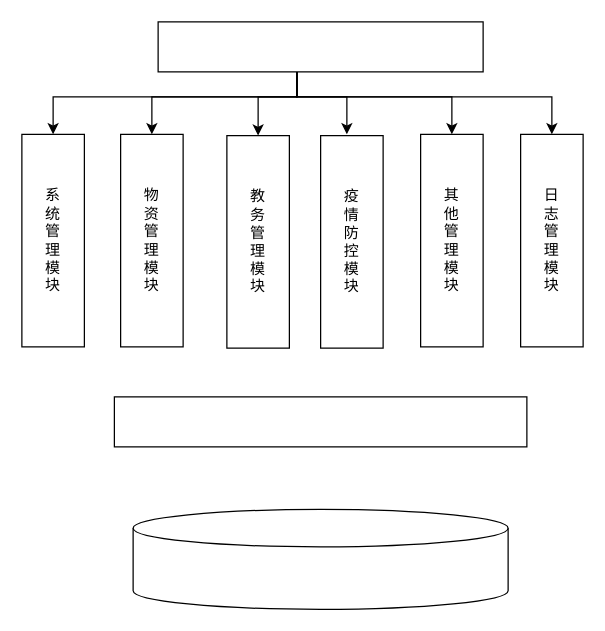
Image size: 605x631. Some labels were removed from this diagram. Each missing label, with the centre of its shape:
IDEA+Tomcat+Node.js: the point at 320,421
MySQL: the point at 320,558
基于JavaEE的校园防疫系统: the point at 320,46
